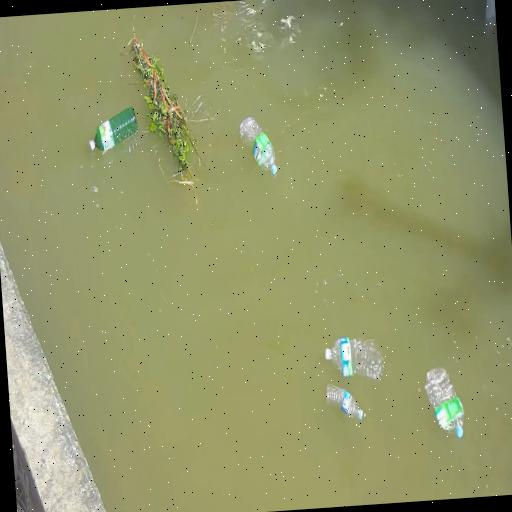plastic: (418, 359, 468, 444), (325, 328, 387, 386), (240, 116, 284, 178), (86, 105, 139, 156), (324, 382, 368, 424)
twig: (131, 34, 207, 178)
